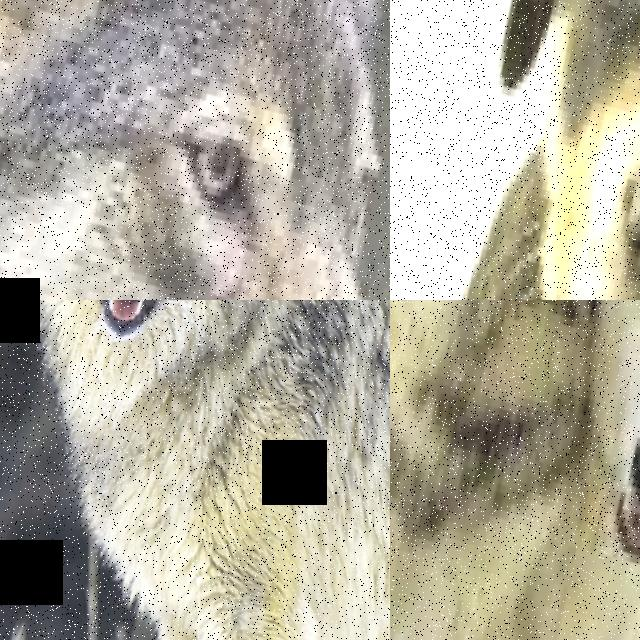dog: (390, 0, 640, 300)
wolf: (0, 300, 390, 640), (0, 0, 390, 300), (390, 300, 631, 640), (482, 300, 640, 640), (390, 300, 467, 640)
